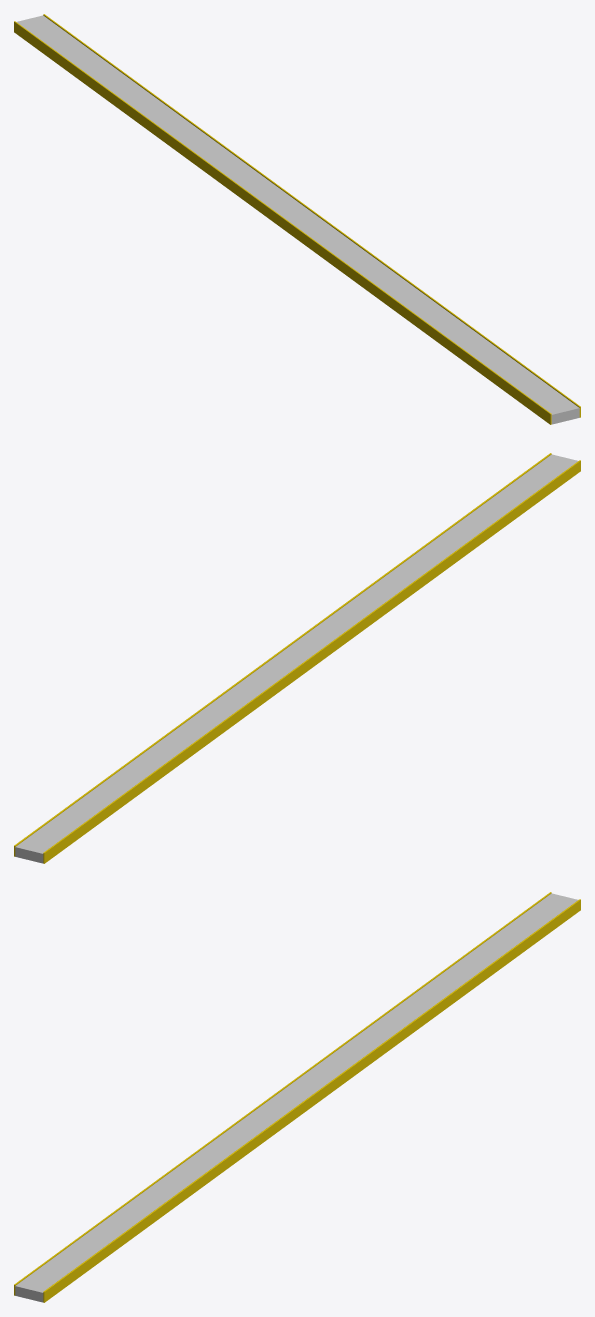
The model's file is finish.line.fbx.
3 views of the same model, one above another, from view 1: azimuth 30°, elevation 25°; view 2: azimuth 150°, elevation 25°; view 3: azimuth 330°, elevation 25° (orthographic).
Parts seen in each view (by area): view 1: road; view 2: road; view 3: road.
Part boxes in pixels (x1,y1,x2,y2): road: (14, 14, 580, 424); road: (14, 453, 580, 863); road: (14, 892, 580, 1302).
Bounding box in the file's own units: 656 × 224 × 20000.
